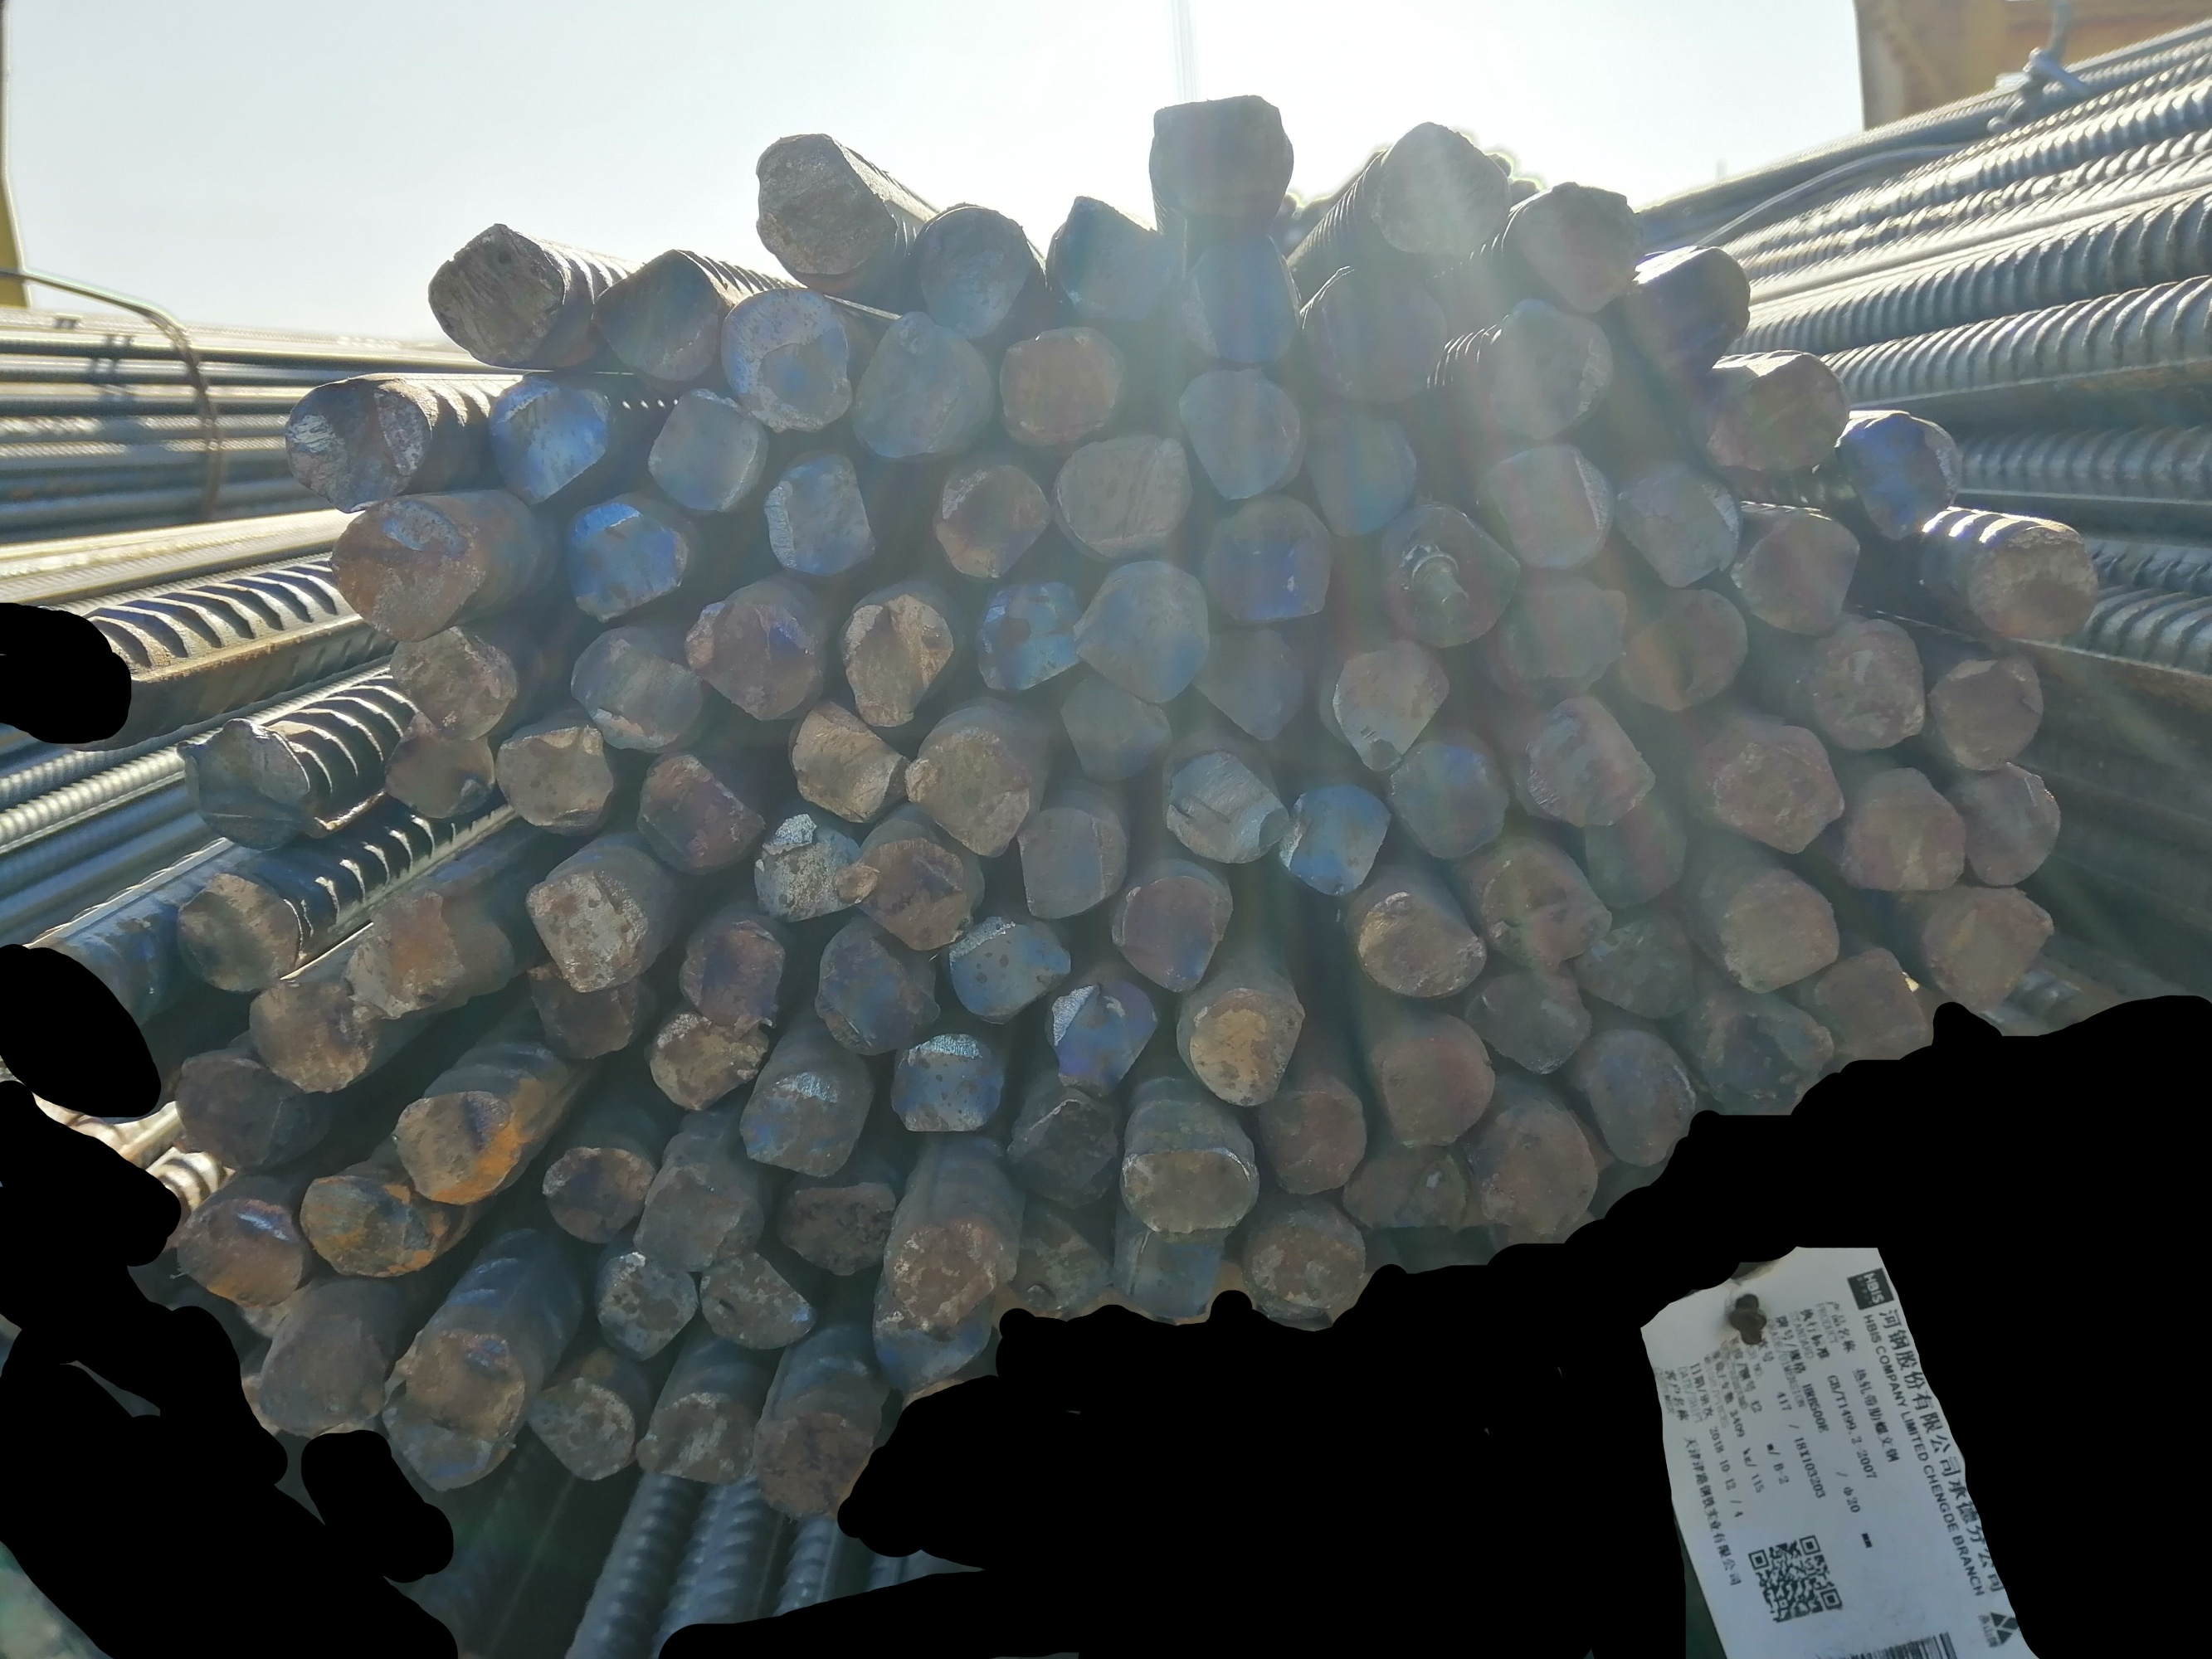rebar: (378, 1324, 532, 1495), (321, 491, 490, 645), (420, 216, 575, 373), (523, 842, 678, 995), (275, 373, 436, 516), (751, 127, 901, 279), (851, 308, 997, 464), (169, 716, 333, 854), (1379, 498, 1522, 652), (1069, 559, 1215, 708), (1304, 260, 1450, 408), (715, 284, 858, 436), (1612, 240, 1754, 394), (1480, 293, 1618, 444), (478, 368, 622, 511), (587, 242, 729, 387), (1051, 429, 1199, 563), (1145, 89, 1295, 221), (1706, 720, 1848, 859), (1370, 120, 1513, 258), (370, 884, 512, 1019), (1175, 364, 1313, 502), (1171, 228, 1307, 368), (1487, 573, 1633, 702), (1469, 1094, 1597, 1243), (1520, 694, 1659, 828), (1365, 1011, 1497, 1152), (830, 835, 987, 953), (253, 1307, 390, 1441), (901, 721, 1035, 859), (1513, 178, 1647, 315), (1476, 441, 1614, 575), (244, 974, 392, 1098), (1923, 882, 2059, 1016), (567, 626, 708, 755), (812, 920, 945, 1056), (1198, 491, 1335, 622), (1835, 406, 1966, 544), (1705, 347, 1846, 474), (682, 598, 824, 723), (1048, 192, 1180, 326), (633, 748, 770, 877), (1475, 843, 1616, 969), (296, 1171, 451, 1284), (906, 200, 1039, 333), (1729, 507, 1863, 638), (1109, 856, 1234, 995), (171, 871, 307, 999), (831, 591, 957, 728), (1328, 638, 1454, 775), (997, 324, 1131, 451), (389, 1087, 530, 1208), (784, 695, 913, 826), (1612, 462, 1743, 591), (1839, 767, 1968, 897), (1175, 985, 1307, 1112), (1616, 586, 1750, 711), (1808, 615, 1928, 755), (1581, 1026, 1698, 1169), (385, 629, 525, 748), (880, 1215, 1020, 1333), (563, 500, 694, 626), (171, 1195, 310, 1312), (1351, 887, 1492, 1002), (1717, 870, 1844, 997), (641, 385, 767, 514), (758, 450, 882, 580), (167, 1047, 293, 1175), (1386, 739, 1515, 863), (1455, 964, 1595, 1077), (628, 1162, 769, 1274), (1968, 523, 2100, 641), (1700, 1004, 1837, 1117), (1300, 411, 1422, 538), (1945, 756, 2066, 885), (734, 1065, 866, 1182), (1245, 1202, 1368, 1326), (933, 458, 1055, 582), (492, 721, 617, 840), (1011, 802, 1133, 922), (1926, 650, 2046, 772), (1161, 748, 1285, 866), (744, 1406, 872, 1521), (947, 913, 1074, 1028), (1042, 978, 1161, 1098), (1276, 779, 1394, 899), (1191, 622, 1307, 744), (1002, 1096, 1126, 1211), (519, 962, 662, 1061), (1574, 910, 1701, 1019), (378, 709, 499, 824), (675, 917, 790, 1037), (973, 577, 1088, 697), (643, 1009, 770, 1117), (1257, 1079, 1372, 1197), (1578, 788, 1689, 910), (1116, 1143, 1262, 1236), (1811, 943, 1930, 1056), (629, 1387, 758, 1490), (1058, 671, 1175, 784), (770, 1176, 898, 1279), (525, 1373, 638, 1486), (750, 812, 863, 925), (593, 1249, 702, 1364), (537, 1143, 657, 1248), (697, 1251, 821, 1352), (889, 1028, 1006, 1134), (868, 1300, 997, 1394), (1008, 1208, 1116, 1316), (1340, 1147, 1471, 1234), (1114, 1225, 1225, 1319), (343, 936, 420, 1021)
